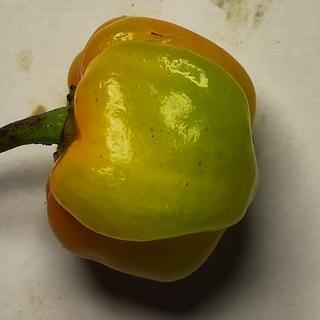Grade-B: (42, 12, 263, 284)
